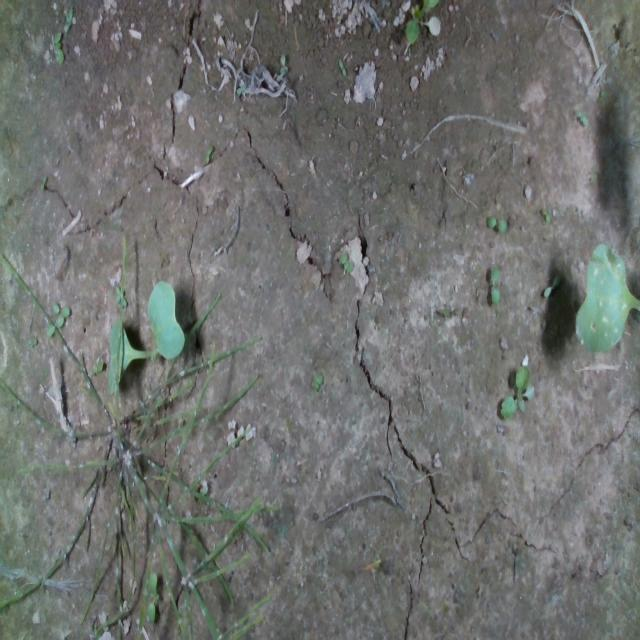weed: (485, 213, 508, 236), (543, 271, 561, 298), (489, 262, 499, 306), (52, 29, 64, 64), (338, 250, 354, 274), (572, 105, 588, 128), (63, 3, 73, 32), (311, 369, 323, 392), (203, 142, 213, 164), (540, 206, 550, 224), (338, 57, 346, 76)
